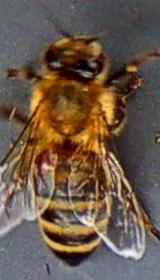varroa_mite: (31, 141, 65, 176)
